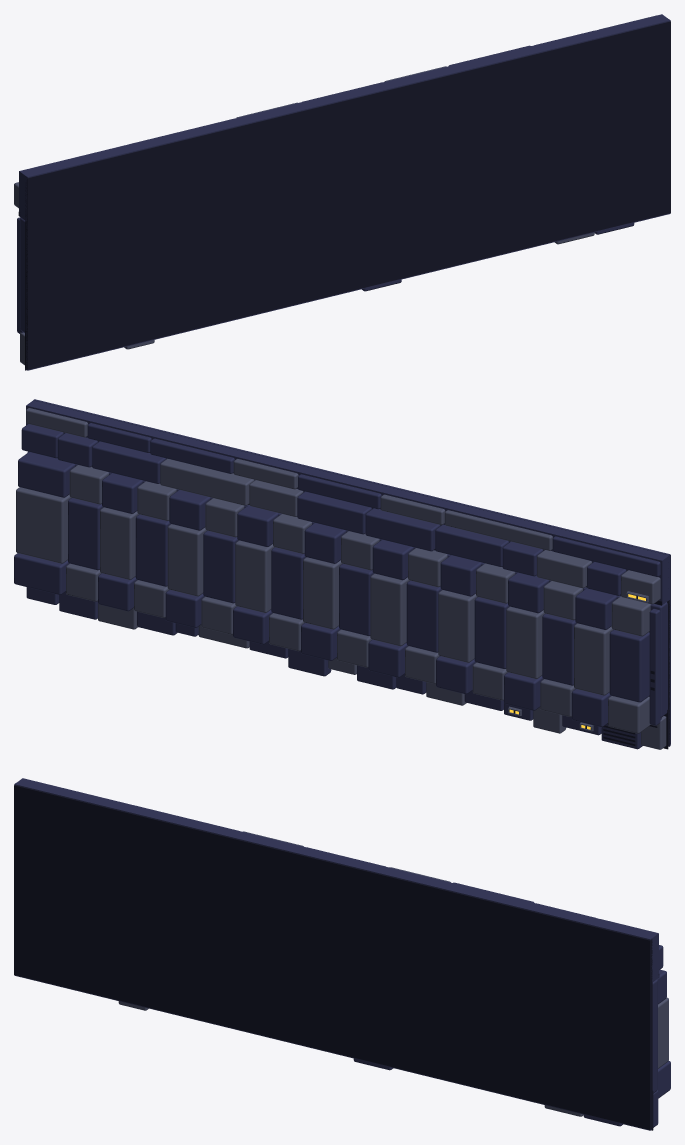
The model's file is hull.bay.navy.navy.none.louvre.w13.000.s0.k-2.5.t0.25.glb.
3 renders of one model, top to bottom at view 1: azimuth 30°, elevation 25°; view 2: azimuth 150°, elevation 25°; view 3: azimuth 330°, elevation 25°, orthographic.
Visible parts, largest first — view 1: hull.bay.navy.navy.none.louvre.w13.000.s0.k-2.5.t0.25; view 2: hull.bay.navy.navy.none.louvre.w13.000.s0.k-2.5.t0.25; view 3: hull.bay.navy.navy.none.louvre.w13.000.s0.k-2.5.t0.25.
Part boxes in pixels (x1,y1,x2,y2): hull.bay.navy.navy.none.louvre.w13.000.s0.k-2.5.t0.25: (14,14,670,370); hull.bay.navy.navy.none.louvre.w13.000.s0.k-2.5.t0.25: (14,399,670,749); hull.bay.navy.navy.none.louvre.w13.000.s0.k-2.5.t0.25: (14,778,670,1130).
Bounding box in the file's own units: 13 × 3.87 × 0.8385.
